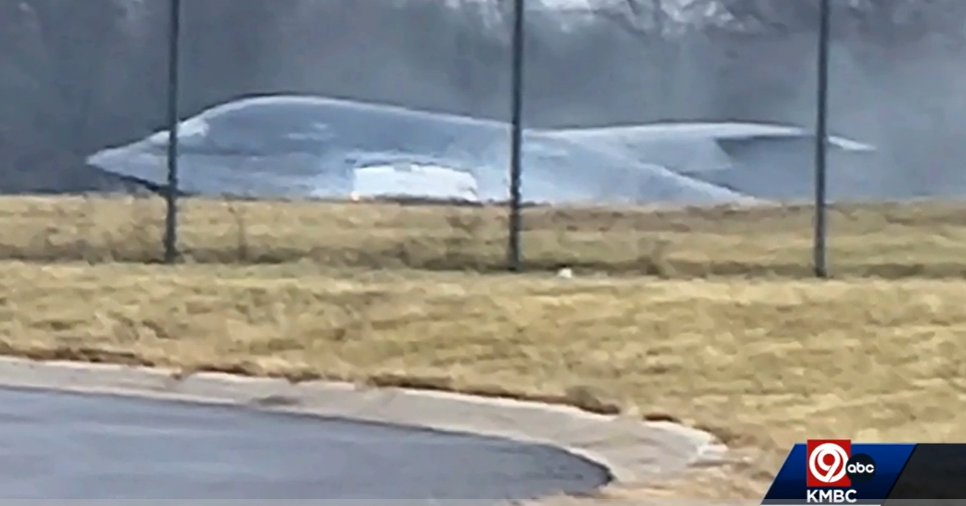B2: (85, 94, 880, 208)
